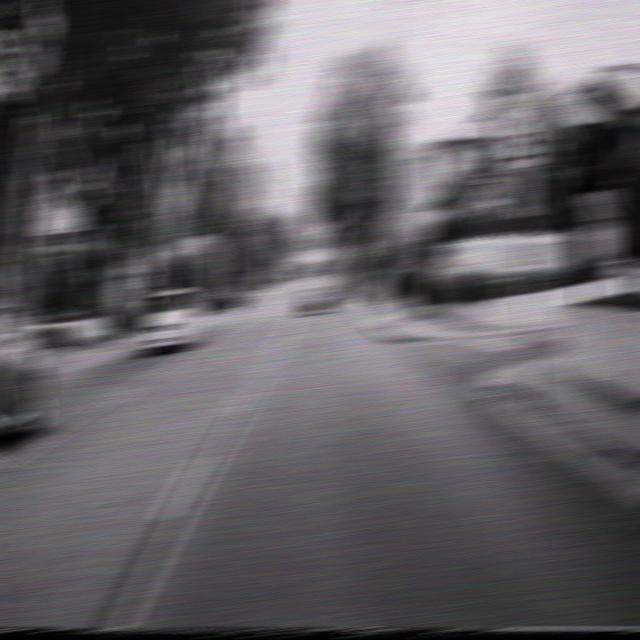speedLimit25: (495, 88, 543, 172)
